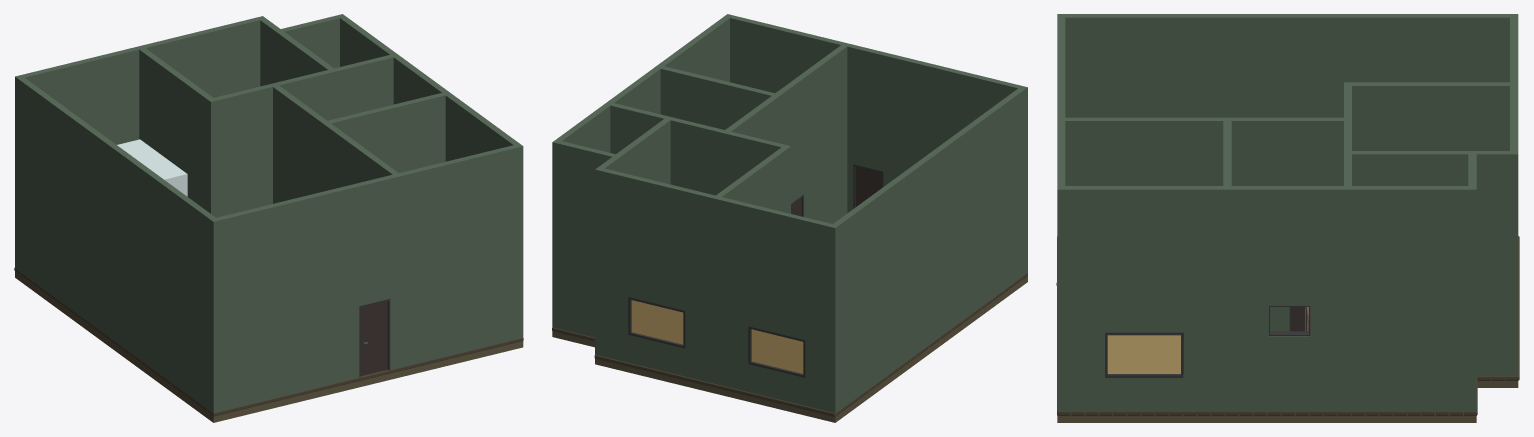
The model's file is Casa_Saras_Fragments-test2.fbx.
The picture shows the model from 3 angles, left to right: view 1: azimuth 30°, elevation 25°; view 2: azimuth 150°, elevation 25°; view 3: azimuth 270°, elevation 25°; orthographic projection. The views are drawn at different scales.
Parts seen in each view (by area): view 1: Casa, Suelo, BaldosaMadera, Puerta, Alacena, MarcoPuerta; view 2: Casa, Suelo, MarcoVent.001, MarcoVent, BaldosaMadera, Puerta; view 3: Casa, Suelo, MarcoVent.002, BaldosaMadera.
Boxes of the visible parts, left/top/right/bottom form: Casa: left=15, top=14, right=523, bottom=413; Suelo: left=15, top=271, right=523, bottom=422; BaldosaMadera: left=14, top=268, right=523, bottom=416; Puerta: left=360, top=301, right=387, bottom=375; Alacena: left=117, top=139, right=187, bottom=196; MarcoPuerta: left=359, top=299, right=390, bottom=377; Casa: left=552, top=14, right=1027, bottom=413; Suelo: left=552, top=276, right=1027, bottom=422; MarcoVent.001: left=628, top=297, right=685, bottom=348; MarcoVent: left=748, top=326, right=805, bottom=377; BaldosaMadera: left=552, top=273, right=1027, bottom=416; Puerta: left=855, top=166, right=881, bottom=206; Casa: left=1057, top=14, right=1518, bottom=415; Suelo: left=1057, top=380, right=1518, bottom=422; MarcoVent.002: left=1105, top=332, right=1183, bottom=377; BaldosaMadera: left=1057, top=236, right=1519, bottom=415.
Bounding box in the file's own units: 10.01 × 6.2 × 11.15.
